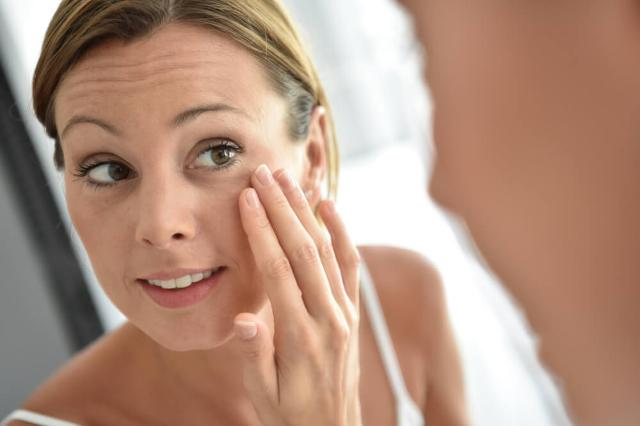forehead: (144, 51, 198, 89), (80, 61, 134, 91)
sad_smile: (118, 272, 136, 296), (230, 255, 244, 279)
